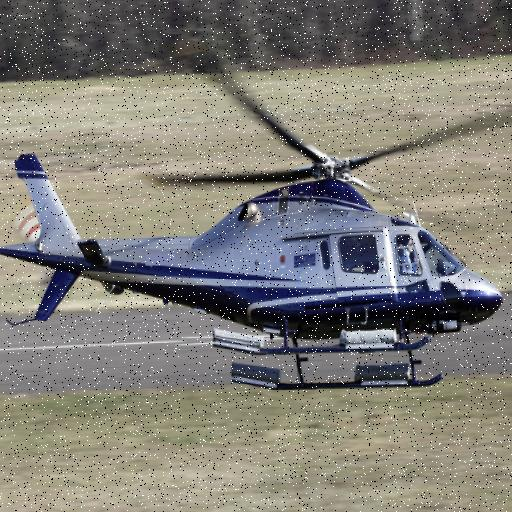helicopter: (1, 63, 511, 403)
